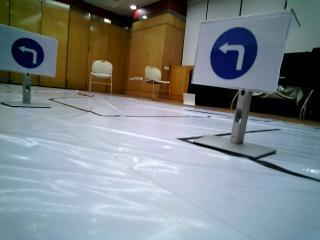left: (200, 24, 279, 89), (2, 24, 56, 72)
